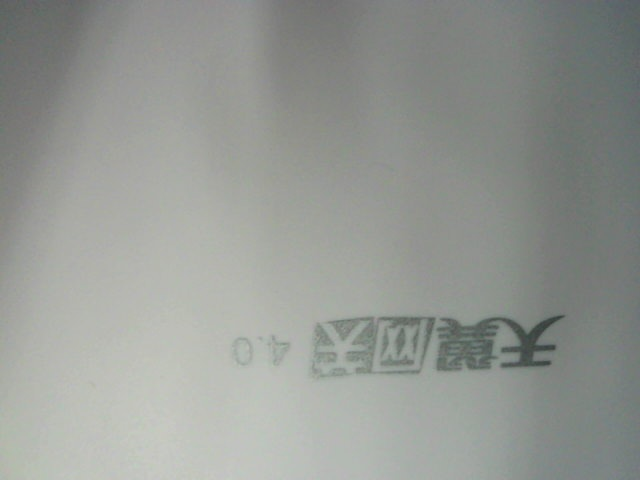BM_TianYiWangGuan: (220, 305, 573, 384)
